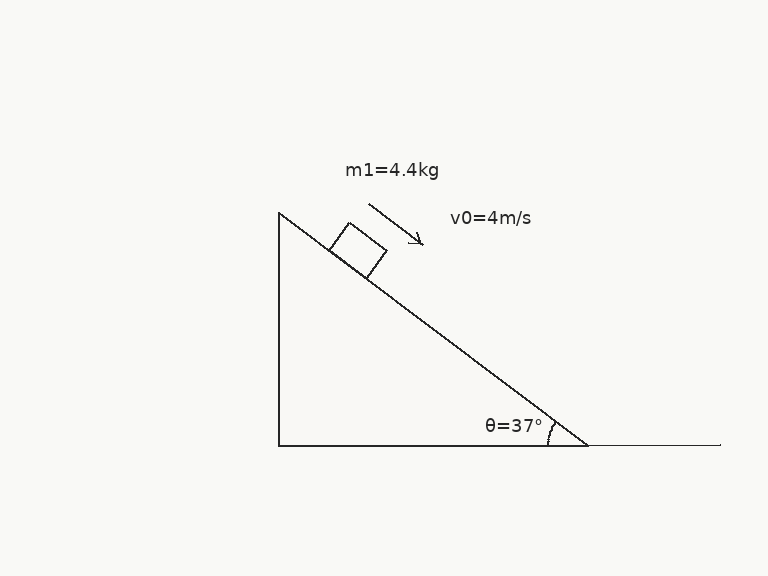block: (327, 220, 388, 279)
ramp: (276, 209, 590, 447)
